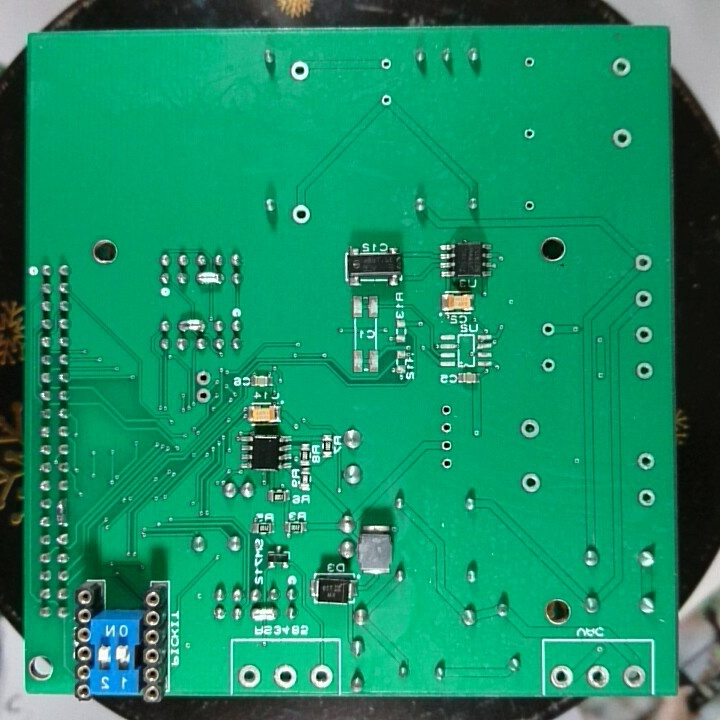F: (236, 663, 265, 692), (308, 663, 335, 692), (621, 662, 648, 691), (549, 663, 574, 692), (585, 663, 611, 690), (273, 663, 298, 690), (518, 417, 544, 442), (519, 470, 543, 497), (288, 58, 312, 83), (634, 449, 658, 473), (611, 127, 634, 152), (632, 358, 655, 382), (289, 203, 312, 227), (611, 55, 634, 78), (634, 324, 655, 346), (633, 288, 654, 310), (633, 252, 654, 274), (538, 320, 559, 341), (637, 487, 657, 509), (192, 387, 212, 406), (538, 357, 557, 376), (194, 369, 213, 387), (378, 92, 397, 109), (521, 196, 537, 216), (439, 418, 455, 435), (378, 56, 394, 73), (522, 125, 537, 143), (438, 402, 454, 418), (438, 437, 454, 453), (438, 456, 454, 472), (522, 55, 537, 70)
P: (193, 269, 225, 289), (249, 604, 282, 623), (177, 316, 208, 336), (54, 498, 71, 529)
